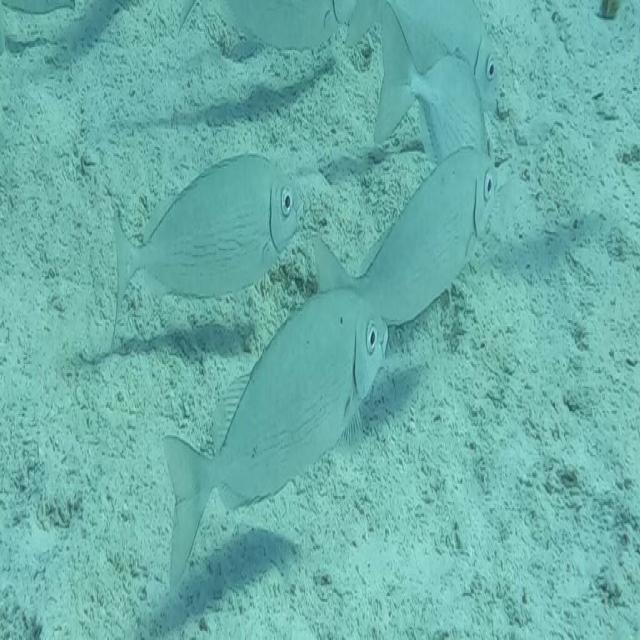Sokar Baligi: (100, 112, 313, 377)
